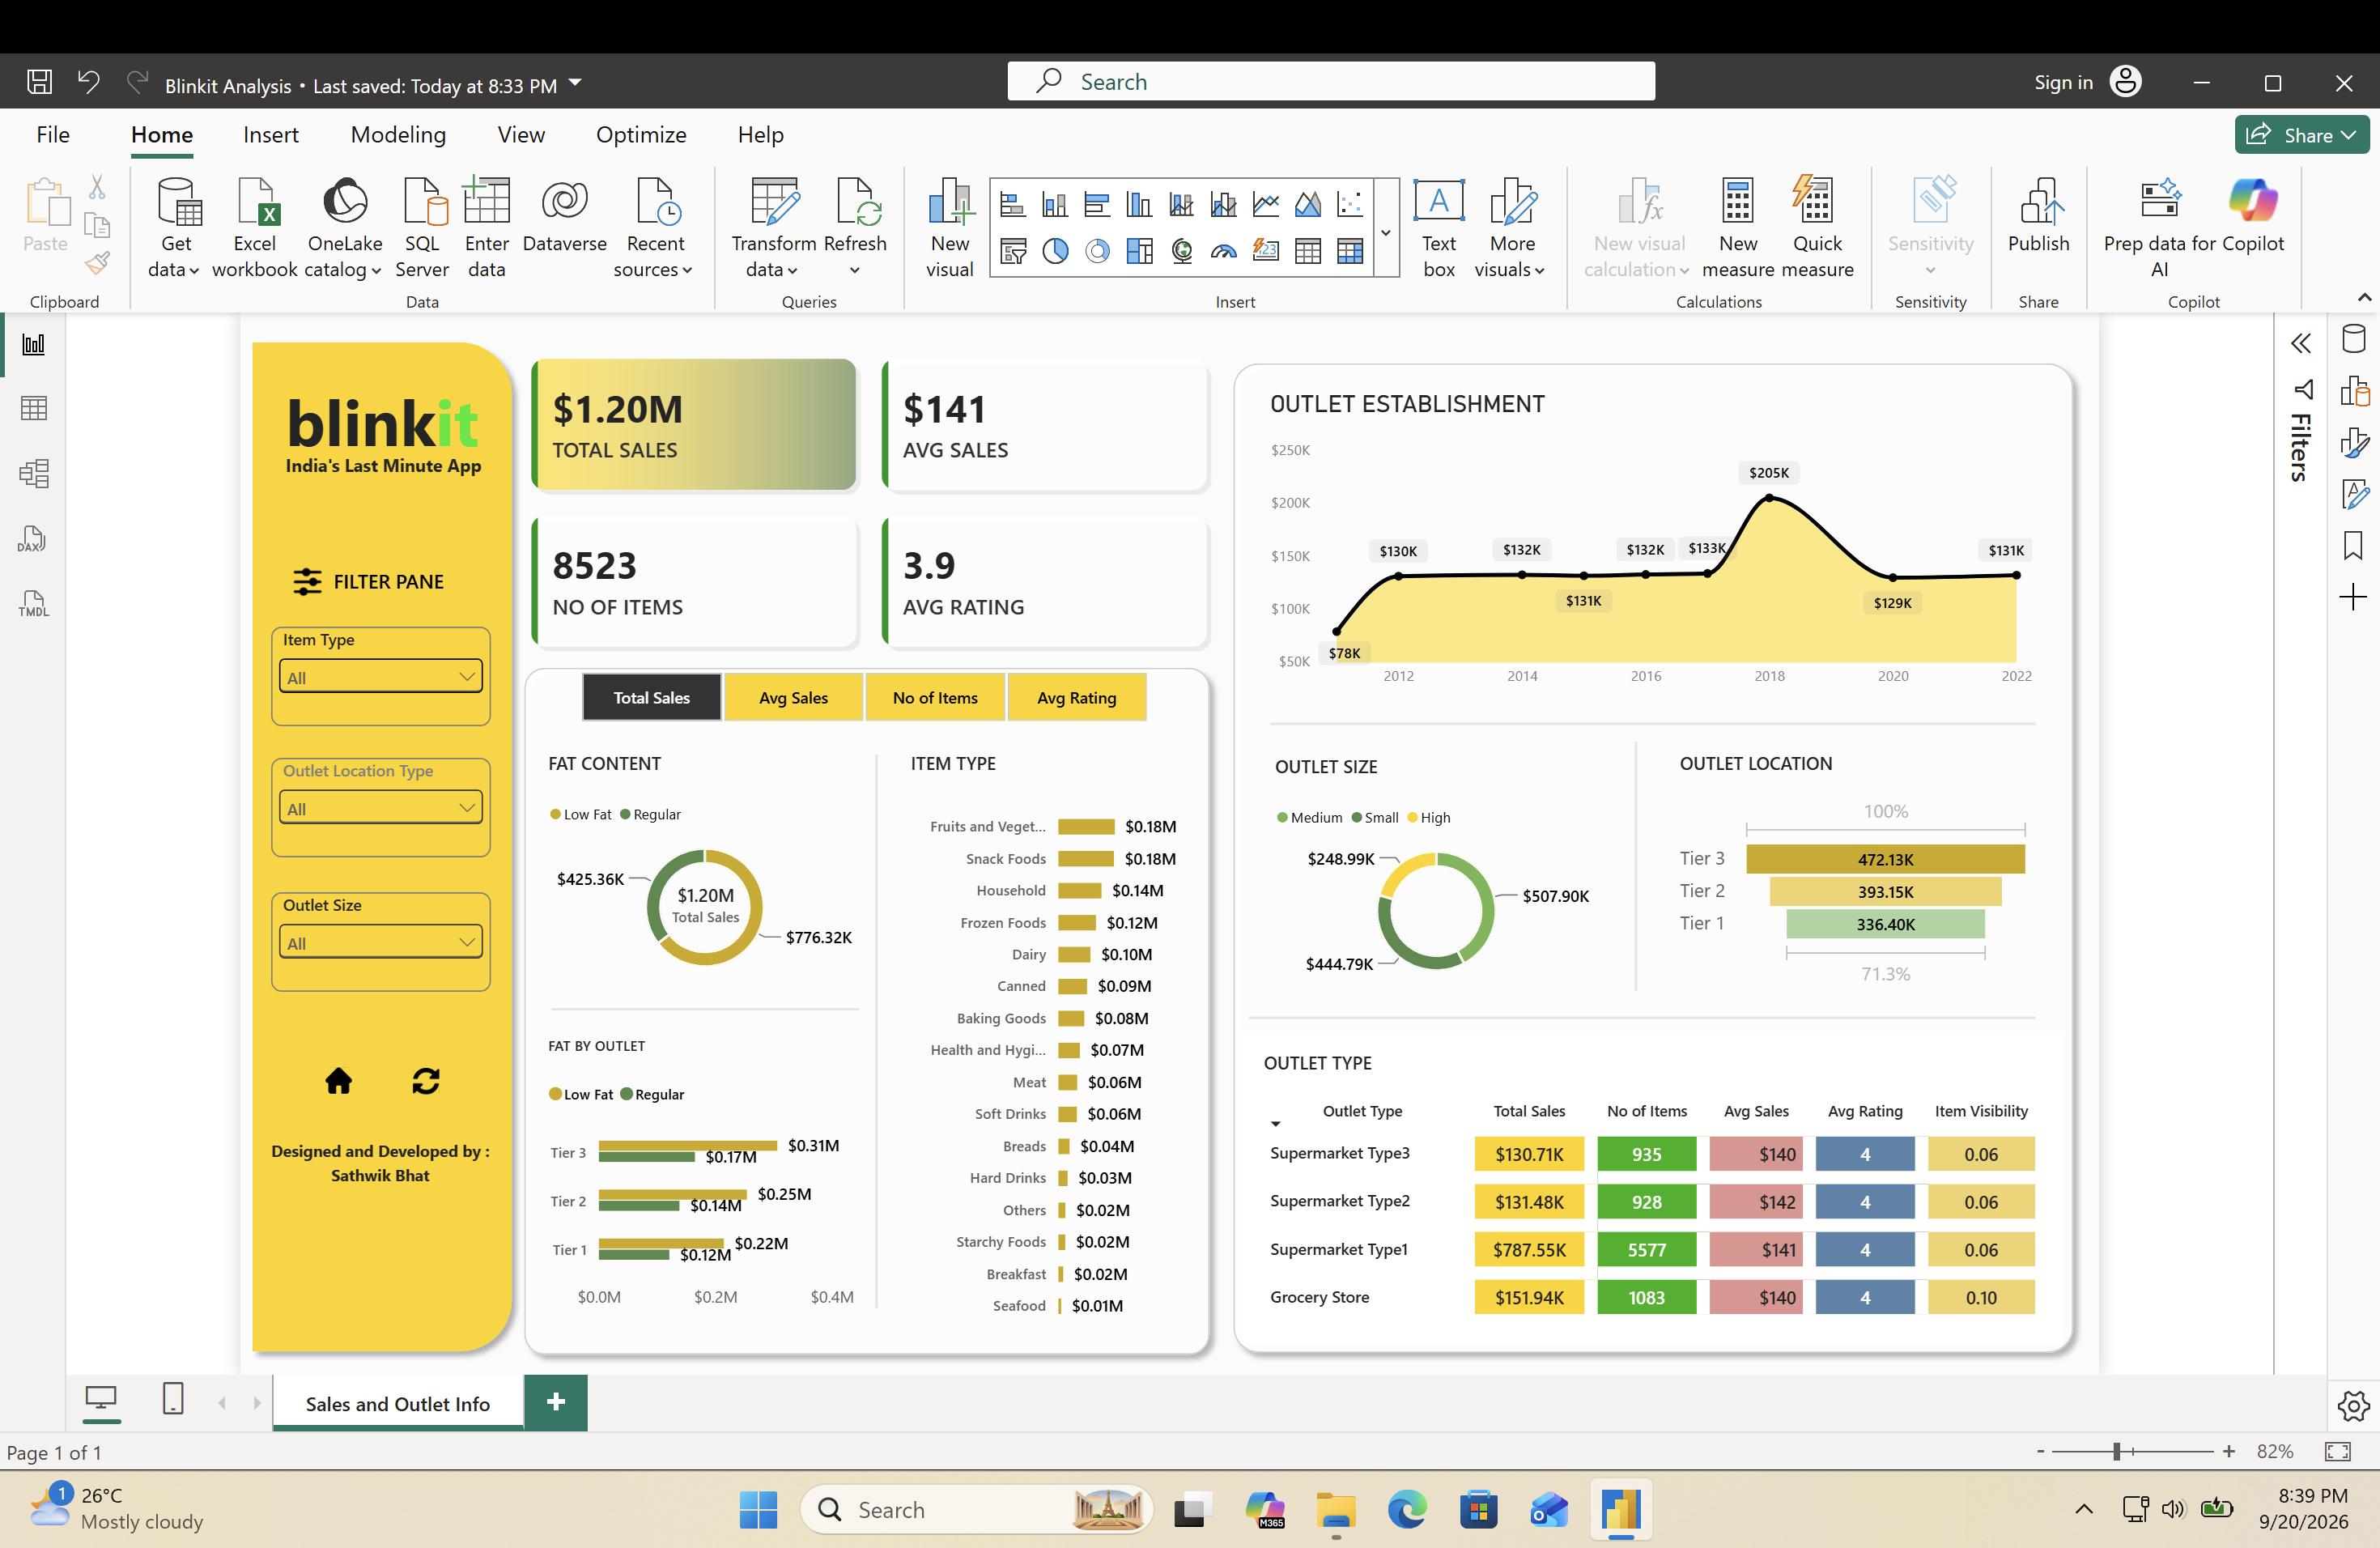

The dashboard page shown, as its layout file describes it:
{"tool":"powerbi","page":{"name":"Sales and Outlet Info","canvas":[1400,800],"ordinal":0},"visuals":[{"type":"shape","box":[0,13.4,213.4,778],"z":0},{"type":"textbox","box":[34.1,48.8,153.7,67.1],"z":1000},{"type":"textbox","box":[34.1,104.9,151.2,23.2],"z":2000},{"type":"cardVisual","fields":{"Data":["BlinkIT Grocery Data.Total Sales","BlinkIT Grocery Data.Avg Sales","BlinkIT Grocery Data.No of Items","BlinkIT Grocery Data.Avg Rating"]},"box":[214,29.4,520.3,229.4],"z":3000},{"type":"shape","box":[204.9,258.5,534.1,535.4],"z":4000},{"type":"donutChart","title":"FAT CONTENT","fields":{"Category":["BlinkIT Grocery Data.Item Fat Content"],"Y":["BlinkIT Grocery Data.Total Sales"]},"box":[215.9,315.9,268,206.1],"z":5000},{"type":"slicer","fields":{"Values":["Metrics.Metrics"]},"box":[236.4,269.9,465,40],"z":6000},{"type":"cardVisual","fields":{"Data":["BlinkIT Grocery Data.Total Sales"]},"box":[306.1,428,89.5,37.8],"z":7000},{"type":"clusteredBarChart","title":"FAT BY OUTLET","fields":{"Category":["BlinkIT Grocery Data.Outlet Location Type"],"Series":["BlinkIT Grocery Data.Item Fat Content"],"Y":["BlinkIT Grocery Data.Total Sales"]},"box":[215.9,530.5,268.3,240.2],"z":8000},{"type":"shape","box":[233.6,511.9,232.2,25.2],"z":9000},{"type":"shape","box":[465.7,332.9,26.6,416.8],"z":10000},{"type":"barChart","title":"ITEM TYPE","fields":{"Category":["BlinkIT Grocery Data.Item Type"],"Y":["BlinkIT Grocery Data.Total Sales"]},"box":[489.5,316.1,232.2,464.3],"z":11000},{"type":"shape","box":[739.3,29,650.5,763.2],"z":12000},{"type":"lineChart","title":"OUTLET ESTABLISHMENT","fields":{"Category":["BlinkIT Grocery Data.Outlet Establishment Year"],"Y":["BlinkIT Grocery Data.Total Sales"]},"box":[759.8,44.4,606.1,257.8],"z":13000},{"type":"shape","box":[759.8,524.1,592.4,13.7],"z":14000},{"type":"donutChart","title":"OUTLET SIZE","fields":{"Category":["BlinkIT Grocery Data.Outlet Size"],"Y":["BlinkIT Grocery Data.Total Sales"]},"box":[763.4,318.3,274.9,206.6],"z":15000},{"type":"shape","box":[1038,322.7,26.8,187.8],"z":16000},{"type":"funnel","title":"OUTLET LOCATION","fields":{"Category":["BlinkIT Grocery Data.Outlet Location Type"],"Y":["Sum(BlinkIT Grocery Data.Sales)"]},"box":[1068.3,315.9,297.1,208.3],"z":17000},{"type":"shape","box":[775.1,298.8,577.1,22.2],"z":18000},{"type":"pivotTable","title":"OUTLET TYPE","fields":{"Rows":["BlinkIT Grocery Data.Outlet Type"],"Values":["BlinkIT Grocery Data.Total Sales","BlinkIT Grocery Data.No of Items","BlinkIT Grocery Data.Avg Sales","BlinkIT Grocery Data.Avg Rating","Avg(BlinkIT Grocery Data.Item Visibility)"]},"box":[754.6,541.2,618,235.6],"z":19000},{"type":"slicer","fields":{"Values":["BlinkIT Grocery Data.Outlet Location Type"]},"box":[23.8,335.7,165.6,75.1],"z":19001},{"type":"slicer","fields":{"Values":["BlinkIT Grocery Data.Outlet Size"]},"box":[23.8,436.4,165.6,75.1],"z":19002},{"type":"slicer","fields":{"Values":["BlinkIT Grocery Data.Item Type"]},"box":[23.8,236.4,165.6,75.1],"z":19003},{"type":"actionButton","box":[34.5,174,131.2,56.6],"z":19004},{"type":"actionButton","box":[113.3,555.2,53.1,47.6],"z":19005},{"type":"actionButton","box":[47.6,555.2,53,47],"z":19006},{"type":"textbox","box":[16.8,621,180.4,57.3],"z":19007}]}

Visuals, with their boxes on the page's 1400x800 design canvas (x1, y1, x2, y2). These are canvas units, not pixel positions in the 2380x1548 screenshot, which may show the page scaled, cropped or inside an application window:
shape: {"x1": 0, "y1": 13, "x2": 213, "y2": 791}
textbox: {"x1": 34, "y1": 49, "x2": 188, "y2": 116}
textbox: {"x1": 34, "y1": 105, "x2": 185, "y2": 128}
cardVisual - BlinkIT Grocery Data.Total Sales x BlinkIT Grocery Data.Avg Sales: {"x1": 214, "y1": 29, "x2": 734, "y2": 259}
shape: {"x1": 205, "y1": 258, "x2": 739, "y2": 794}
"FAT CONTENT" donutChart: {"x1": 216, "y1": 316, "x2": 484, "y2": 522}
slicer - Metrics.Metrics: {"x1": 236, "y1": 270, "x2": 701, "y2": 310}
cardVisual - BlinkIT Grocery Data.Total Sales: {"x1": 306, "y1": 428, "x2": 396, "y2": 466}
"FAT BY OUTLET" clusteredBarChart: {"x1": 216, "y1": 530, "x2": 484, "y2": 771}
shape: {"x1": 234, "y1": 512, "x2": 466, "y2": 537}
shape: {"x1": 466, "y1": 333, "x2": 492, "y2": 750}
"ITEM TYPE" barChart: {"x1": 490, "y1": 316, "x2": 722, "y2": 780}
shape: {"x1": 739, "y1": 29, "x2": 1390, "y2": 792}
"OUTLET ESTABLISHMENT" lineChart: {"x1": 760, "y1": 44, "x2": 1366, "y2": 302}
shape: {"x1": 760, "y1": 524, "x2": 1352, "y2": 538}
"OUTLET SIZE" donutChart: {"x1": 763, "y1": 318, "x2": 1038, "y2": 525}
shape: {"x1": 1038, "y1": 323, "x2": 1065, "y2": 510}
"OUTLET LOCATION" funnel: {"x1": 1068, "y1": 316, "x2": 1365, "y2": 524}
shape: {"x1": 775, "y1": 299, "x2": 1352, "y2": 321}
"OUTLET TYPE" pivotTable: {"x1": 755, "y1": 541, "x2": 1373, "y2": 777}
slicer - BlinkIT Grocery Data.Outlet Location Type: {"x1": 24, "y1": 336, "x2": 189, "y2": 411}
slicer - BlinkIT Grocery Data.Outlet Size: {"x1": 24, "y1": 436, "x2": 189, "y2": 512}
slicer - BlinkIT Grocery Data.Item Type: {"x1": 24, "y1": 236, "x2": 189, "y2": 312}
actionButton: {"x1": 34, "y1": 174, "x2": 166, "y2": 231}
actionButton: {"x1": 113, "y1": 555, "x2": 166, "y2": 603}
actionButton: {"x1": 48, "y1": 555, "x2": 101, "y2": 602}
textbox: {"x1": 17, "y1": 621, "x2": 197, "y2": 678}
